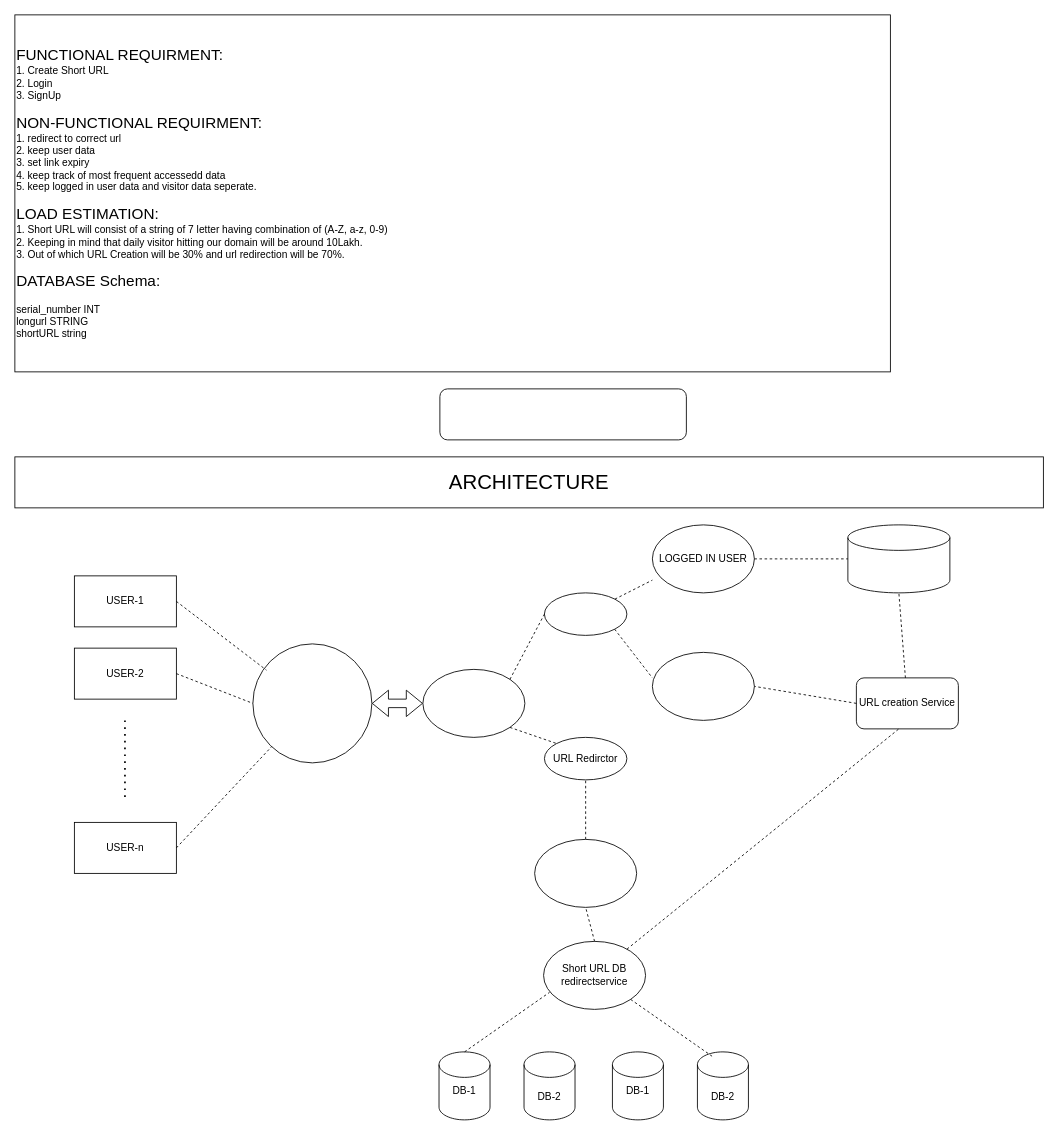
The diagram is 1058 pixels wide and 1135 high, and some of its shapes have lost their labels. The centre of each missing label's shape, as x and y in pixels:
"24BCS10980_VISHAL KUMAR SINGH" belongs at [562,414].
"API SERVICE" belongs at [312,703].
"Cache Database" belongs at [585,873].
"LOAD BALANCER" belongs at [473,703].
"URL Creator" belongs at [585,613].
"USER Registration data" belongs at [898,558].
"VISITOR" belongs at [703,686].
